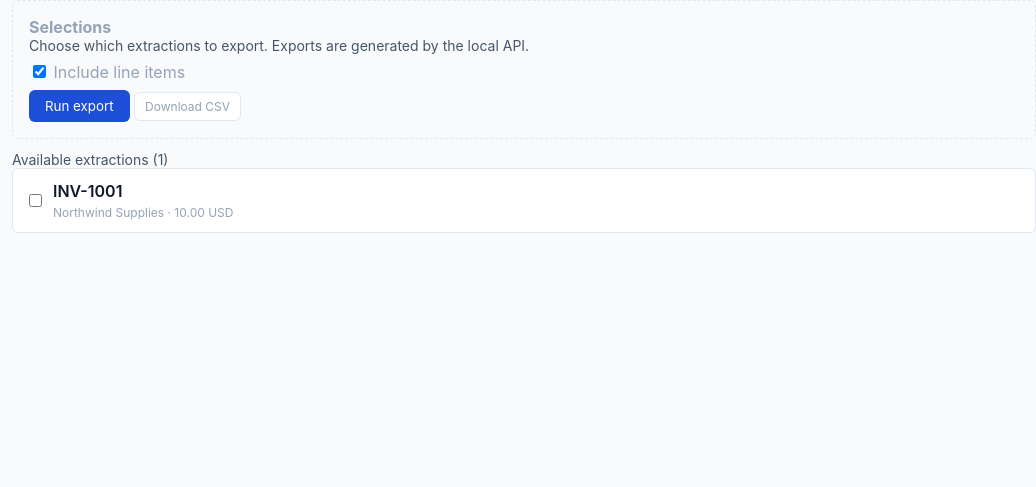
Test: ExportPanel › loads extractions and runs an export
This screenshot has width=1036, height=487.
Expected: the text "Available extractions (1)" is shown, [12,151,168,168]
Click the checkbox named "Select INV-1001" at point(36, 200), box [29,194,42,207]
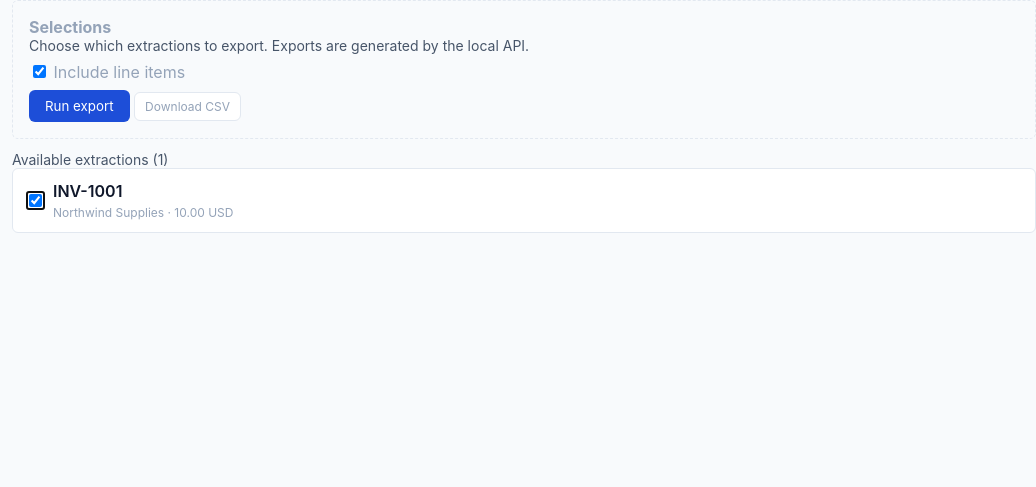
Click the button "Run export" at point(79, 106), box [29,90,130,122]
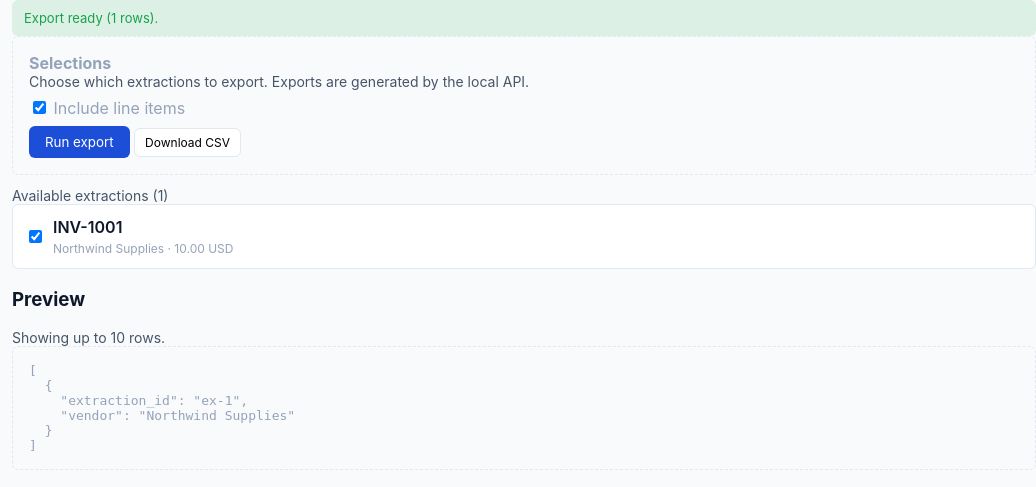
Expected: the text "Northwind Supplies · 10.00 USD" is shown, [53,241,234,256]
Expected: the text "Export ready (1 rows)." is shown, [12,0,1035,36]
